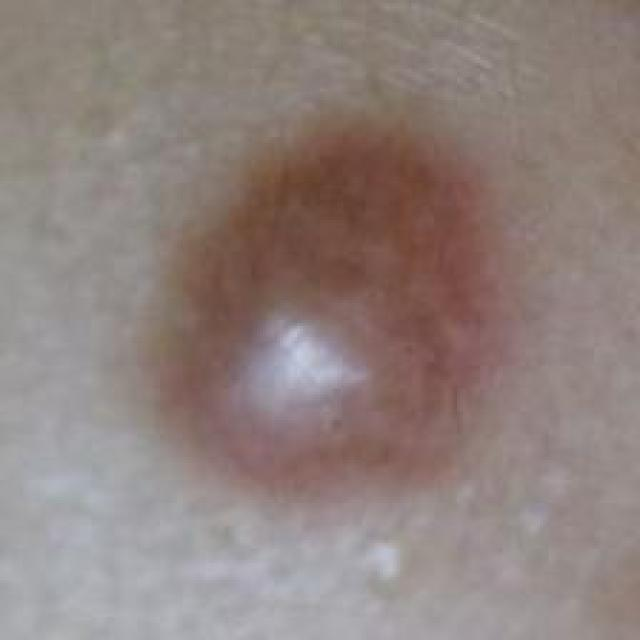monkeypox: (40, 9, 640, 577)
